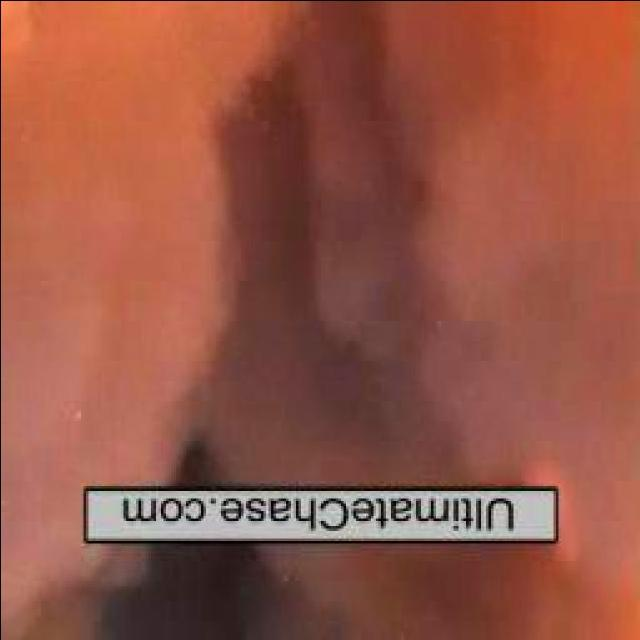Fire: (526, 0, 640, 152), (582, 587, 640, 640)
